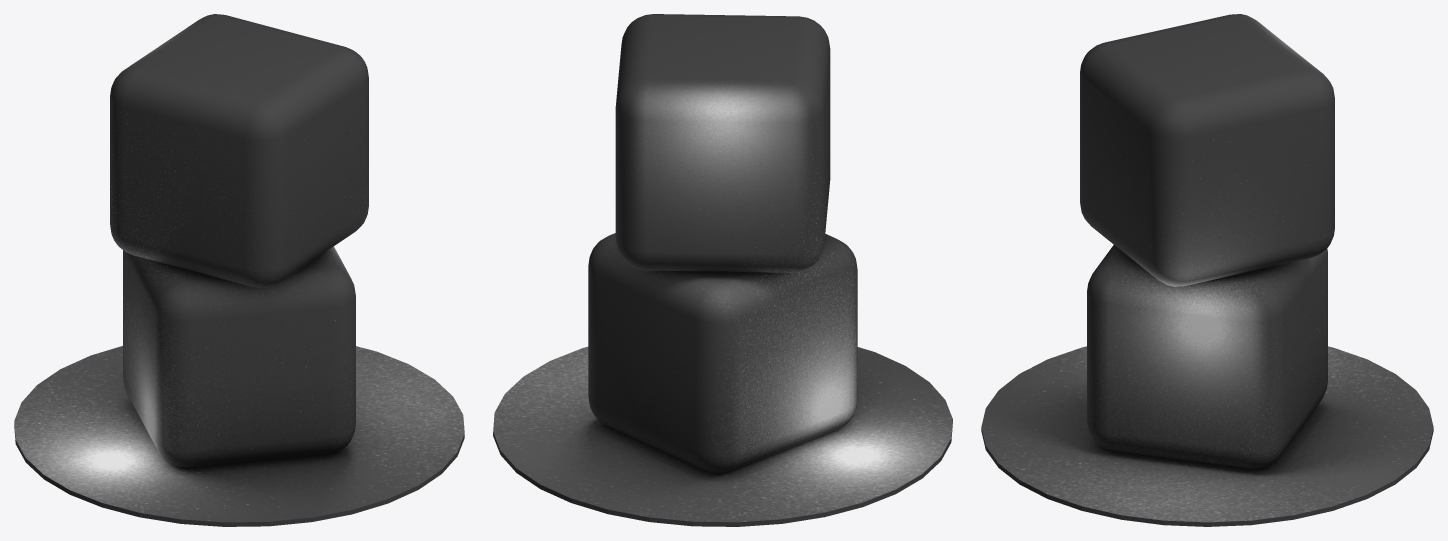
File: cubes.glb
3 views of the same model, side by side, from view 1: azimuth 30°, elevation 25°; view 2: azimuth 150°, elevation 25°; view 3: azimuth 270°, elevation 25° (orthographic). The views are drawn at different scales.
Parts seen in each view (by area): view 1: Cube.001, Cube, Cylinder; view 2: Cube.001, Cube, Cylinder; view 3: Cube.001, Cube, Cylinder.
Boxes of the visible parts, box(x1,y1,x2,y2) form: Cube.001: box(110, 14, 368, 288); Cube: box(123, 246, 355, 468); Cylinder: box(14, 346, 464, 526); Cube.001: box(615, 14, 830, 272); Cube: box(588, 233, 857, 473); Cylinder: box(493, 346, 952, 526); Cube.001: box(1080, 14, 1334, 286); Cube: box(1087, 245, 1327, 469); Cylinder: box(981, 346, 1433, 526).
Bounding box in the file's own units: 4.41 × 4.02 × 4.41.
1 material, 1 textured.
